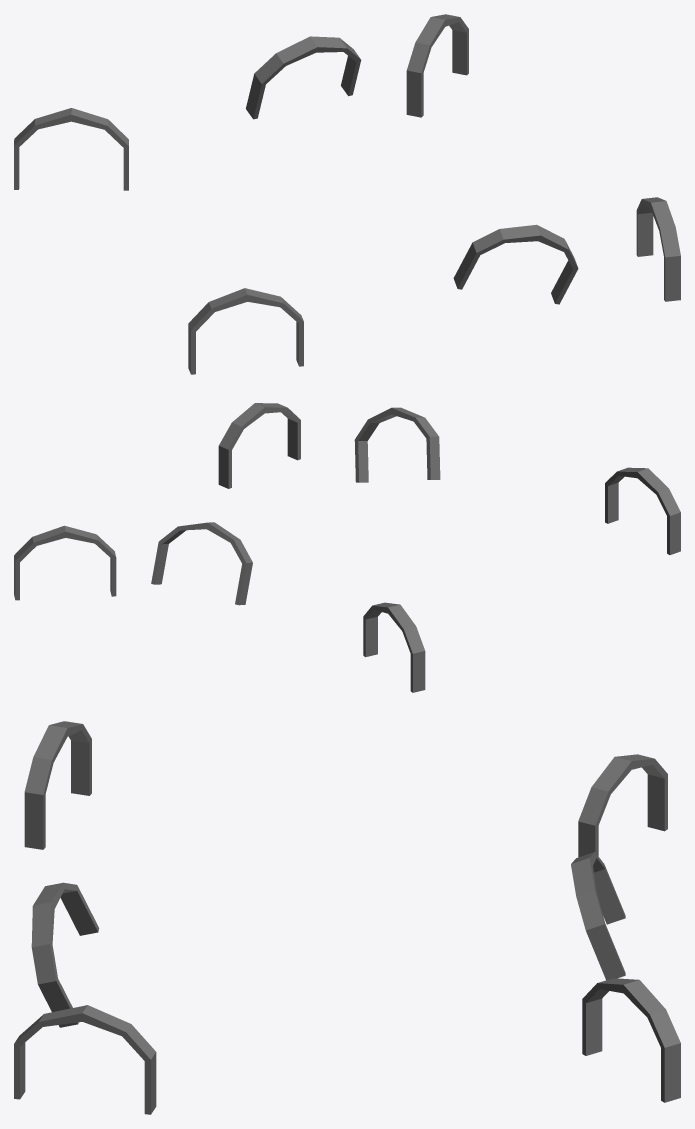
Rendered from Espacio_Llantas.fbx.
3 views of the same model, one above another, from view 1: azimuth 30°, elevation 25°; view 2: azimuth 150°, elevation 25°; view 3: azimuth 270°, elevation 25° (orthographic). The views are drawn at different scales.
Parts seen in each view (by area): view 1: Espacio_llantas; view 2: Espacio_llantas; view 3: Espacio_llantas.
Part boxes in pixels (box(x1,y1,x2,y2)): Espacio_llantas: box(14, 14, 680, 374); Espacio_llantas: box(14, 403, 680, 692); Espacio_llantas: box(14, 721, 680, 1114).
Bounding box in the file's own units: 1080 × 254 × 975.
